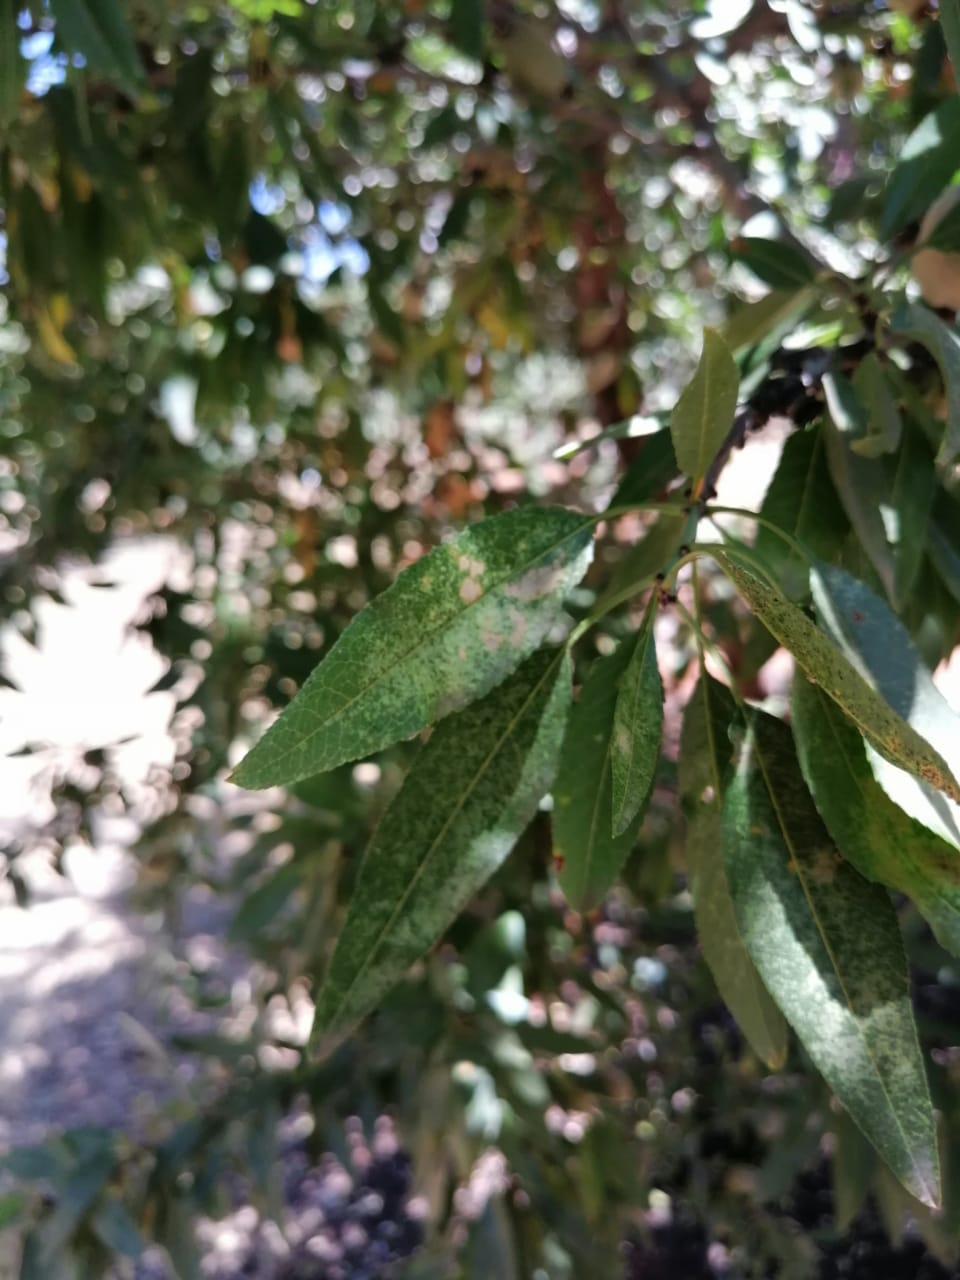faux tigre: (302, 640, 578, 1064), (222, 500, 598, 794), (706, 548, 960, 804)
